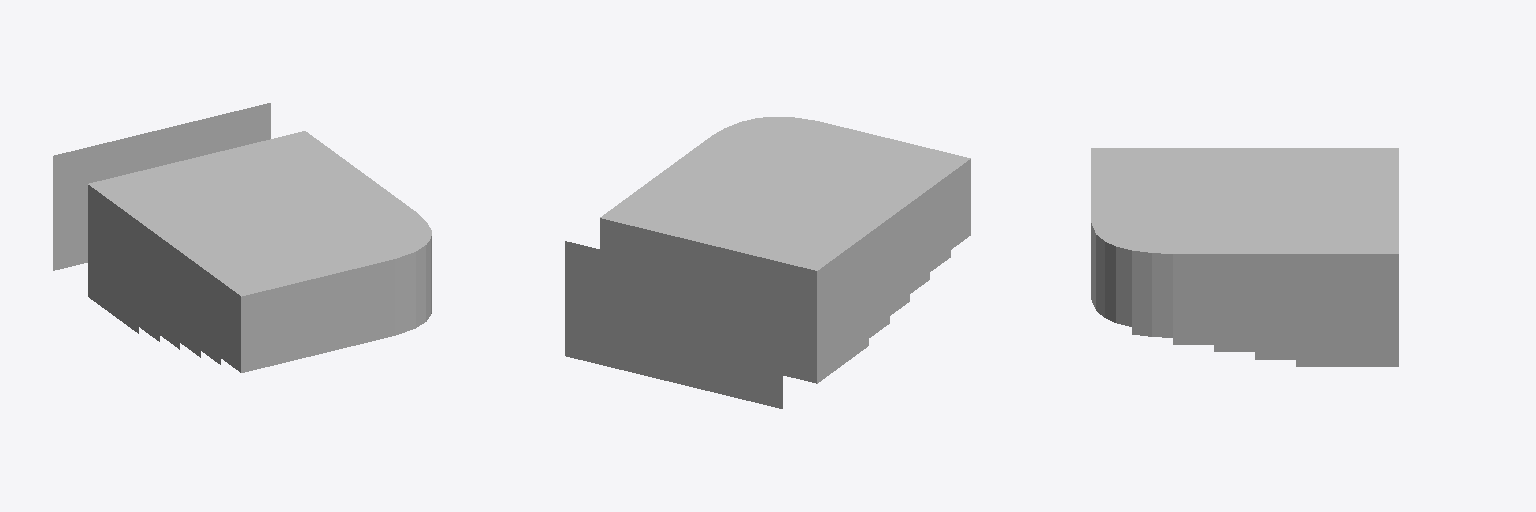
File: sc3_waende.obj
3 renders of one model, left to right at view 1: azimuth 30°, elevation 25°; view 2: azimuth 150°, elevation 25°; view 3: azimuth 270°, elevation 25°, orthographic.
Visible parts, largest first — view 1: Wand; view 2: Wand; view 3: Wand.
Boxes of the visible parts, x1=… form: Wand: x1=53, y1=103, x2=431, y2=372; Wand: x1=565, y1=117, x2=970, y2=408; Wand: x1=1091, y1=148, x2=1398, y2=366.
Size of the model in its own units: 16 by 8.1 by 24.02.